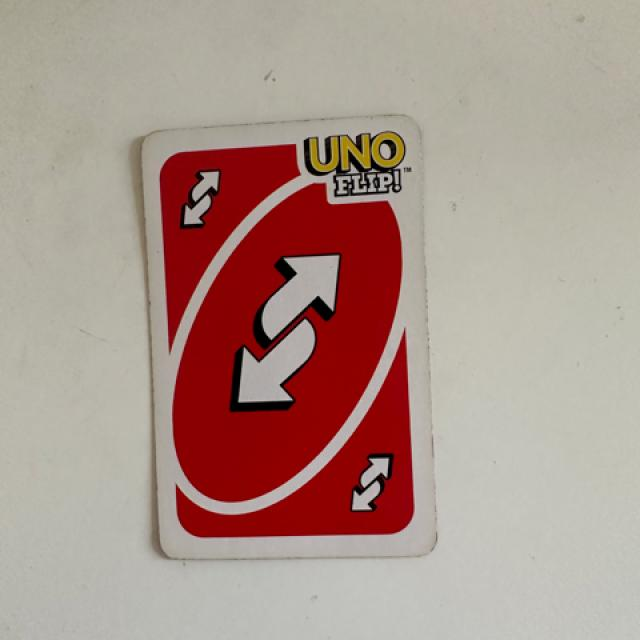lredrevers-20: (157, 145, 244, 244)
